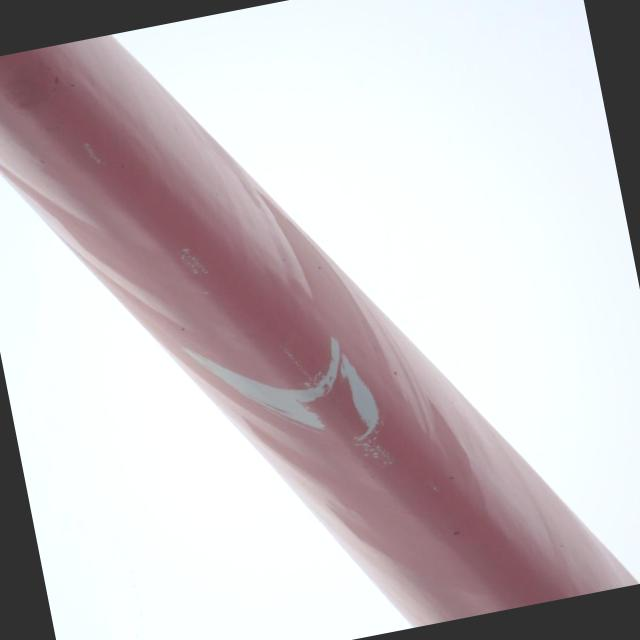surface_peeling: (178, 313, 389, 477)
